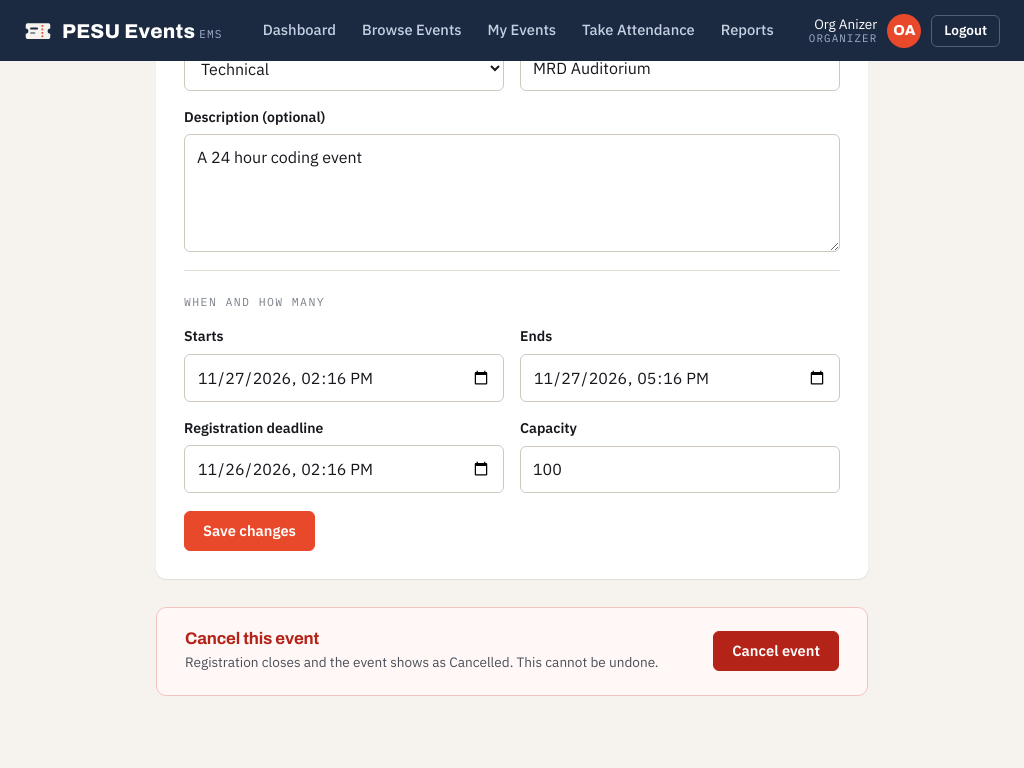
Scenario: Edit Event › TC-EVENT-08: a capacity below the registered count shows the server message
The image size is (1024, 768).
(page scrolled)
Replace the text in the number field labelled "Capacity" with "5": (680,469) [520,446,840,493]
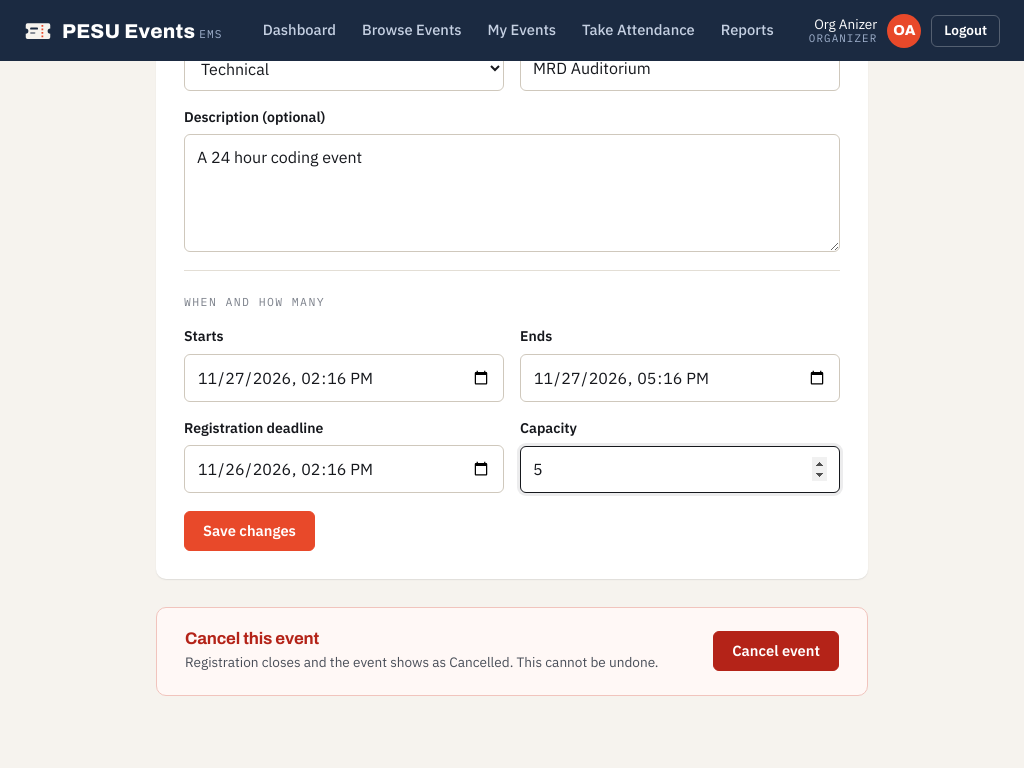
Click the button "Save changes": (250,531) [184,511,315,551]
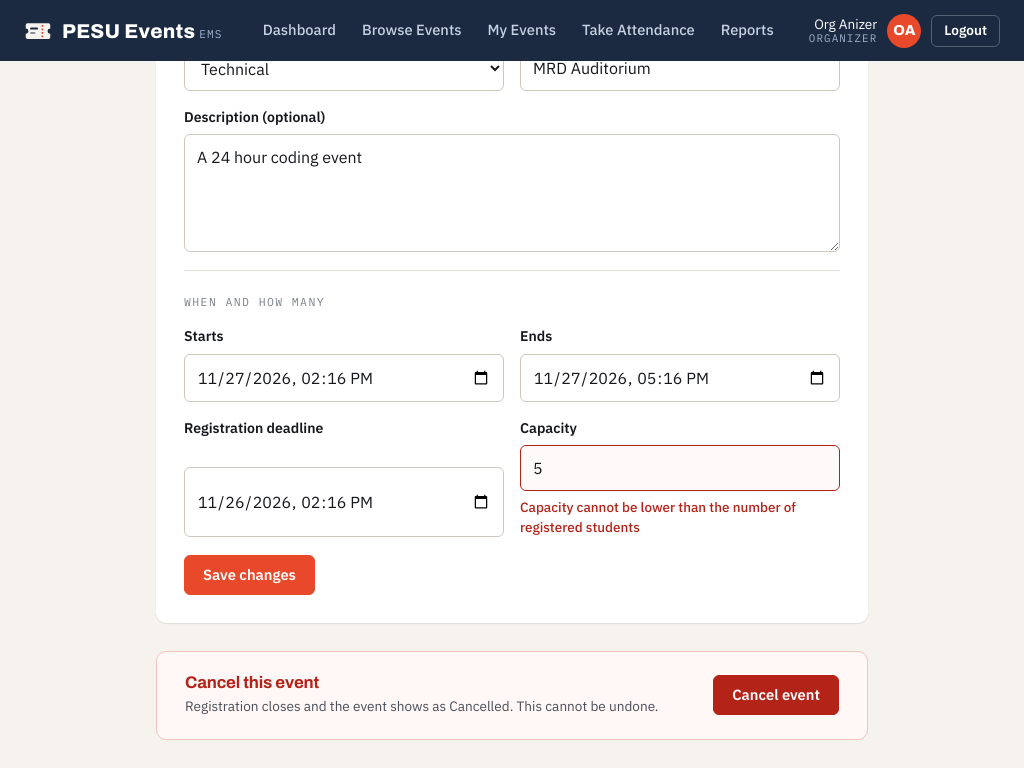
Now the text "Capacity cannot be lower than the number of registered students" is shown, box [520,497,840,537]
